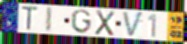1: (147, 13, 158, 38)
G: (70, 9, 93, 35)
I: (45, 6, 54, 33)
T: (21, 5, 40, 32)
V: (121, 11, 145, 39)
X: (94, 9, 117, 38)
